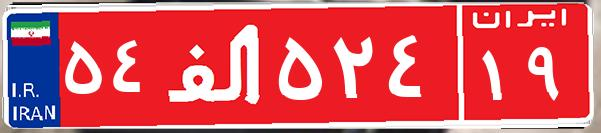1: (475, 38, 525, 113)
2: (330, 28, 385, 110)
4: (385, 28, 445, 110), (110, 28, 158, 105)
5: (273, 28, 330, 110), (57, 26, 110, 107)
9: (525, 38, 570, 115)
الف: (158, 15, 273, 115)
